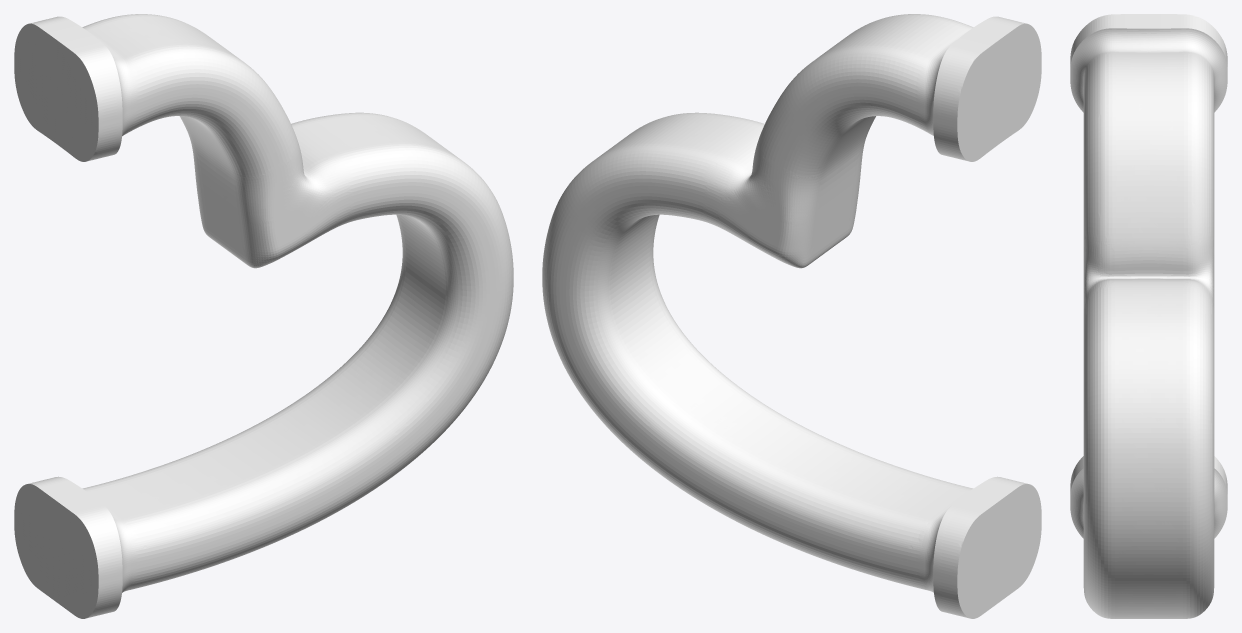
Rendered from handle-02.obj.
The picture shows the model from 3 angles, left to right: view 1: azimuth 30°, elevation 25°; view 2: azimuth 150°, elevation 25°; view 3: azimuth 270°, elevation 25°; orthographic projection. The views are drawn at different scales.
Visible parts, largest first — view 1: handle-02; view 2: handle-02; view 3: handle-02.
Part boxes in pixels (x1,y1,x2,y2): handle-02: (14,14,513,618); handle-02: (542,14,1041,618); handle-02: (1070,14,1227,618).
Size of the model in its own units: 53.82 by 66.67 by 18.12.
1 material, 1 textured.
